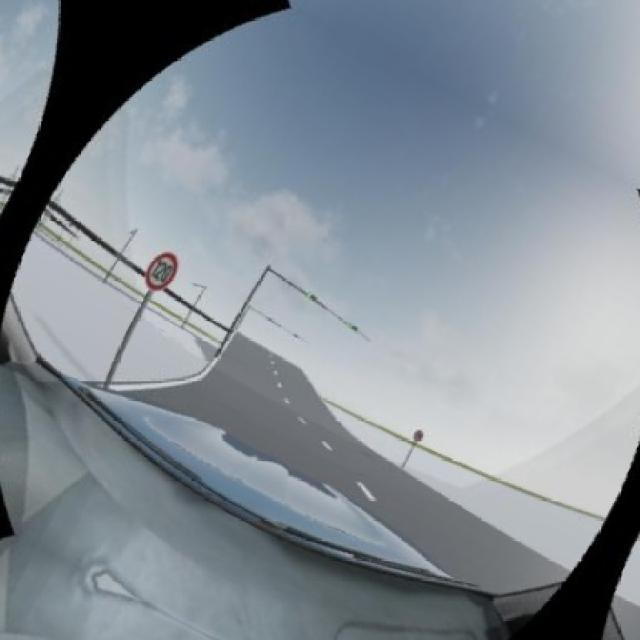forb_speed_over_120: (141, 247, 184, 296)
